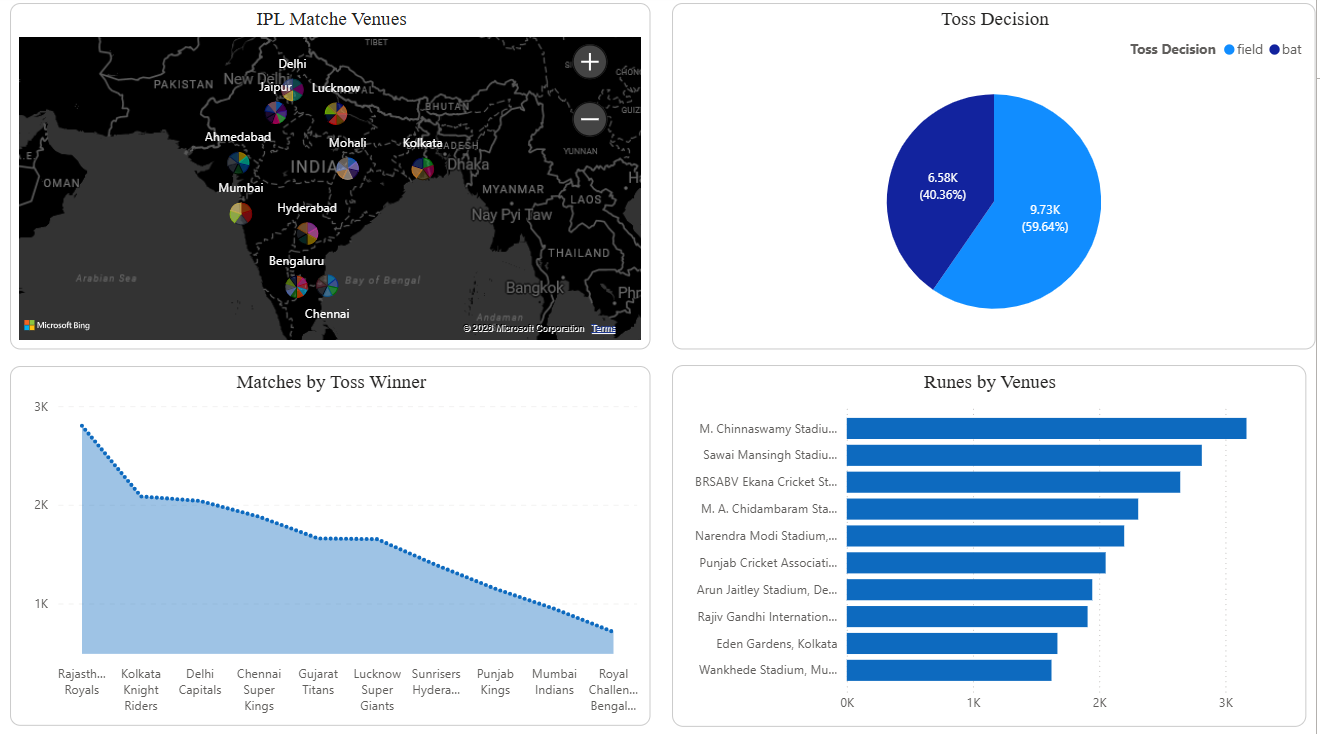

This screenshot's page, from the dashboard's own definition file:
{"tool":"powerbi","page":{"name":"📍Venue & Toss Insights","canvas":[1280,720],"ordinal":2},"visuals":[{"type":"pieChart","title":"Toss Decision","fields":{"Category":["matches_clean.toss_decision"],"Y":["CountNonNull(deliveries_clean.match_id)"]},"box":[653.6,7.8,626.4,336.5],"z":0},{"type":"clusteredBarChart","title":"Runes by Venues","fields":{"Category":["matches_clean.venue"],"Y":["Sum(deliveries_clean.total_runs)"]},"box":[653.6,359.9,616.7,352.1],"z":1000},{"type":"areaChart","title":"Matches by Toss Winner","fields":{"Category":["matches_clean.toss_winner"],"Y":["CountNonNull(deliveries_clean.match_id)"]},"box":[10,361,623,350],"z":2000},{"type":"map","title":"IPL Matche Venues","fields":{"Series":["deliveries_clean.match_id"],"Category":["matches_clean.city"]},"box":[9.7,7.8,623.5,336.5],"z":3000}]}

Visuals, with their boxes in screenshot pixels (x1, y1, x2, y2), scaled from the page's 1280x720 canvas onto the 1320x734 screenshot:
"Toss Decision" pieChart: [x1=674, y1=8, x2=1319, y2=351]
"Runes by Venues" clusteredBarChart: [x1=674, y1=367, x2=1310, y2=726]
"Matches by Toss Winner" areaChart: [x1=10, y1=368, x2=653, y2=725]
"IPL Matche Venues" map: [x1=10, y1=8, x2=653, y2=351]
